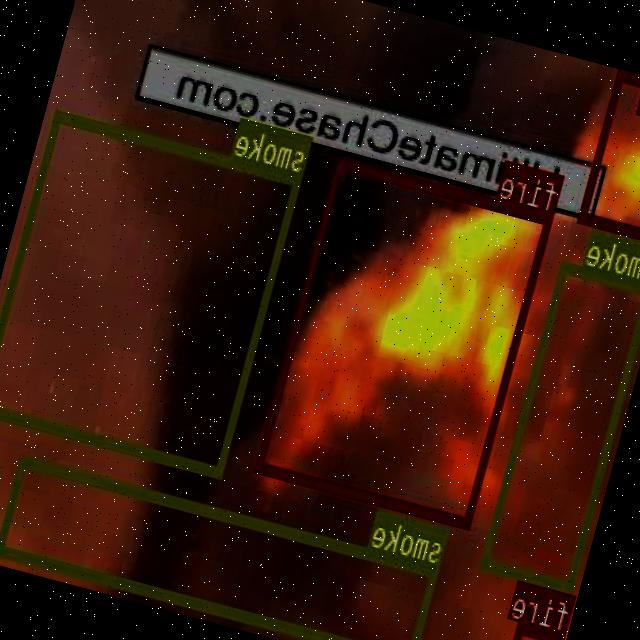fire: (256, 155, 556, 528), (579, 69, 640, 244), (502, 621, 567, 640)
smoke: (0, 108, 303, 477), (0, 454, 440, 640), (482, 259, 640, 590)
